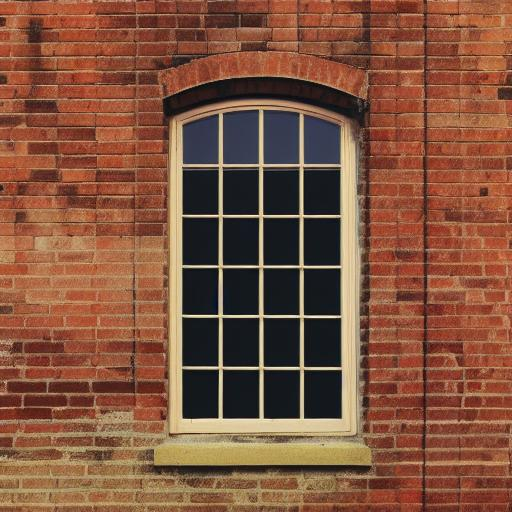Window: (149, 50, 375, 472)
